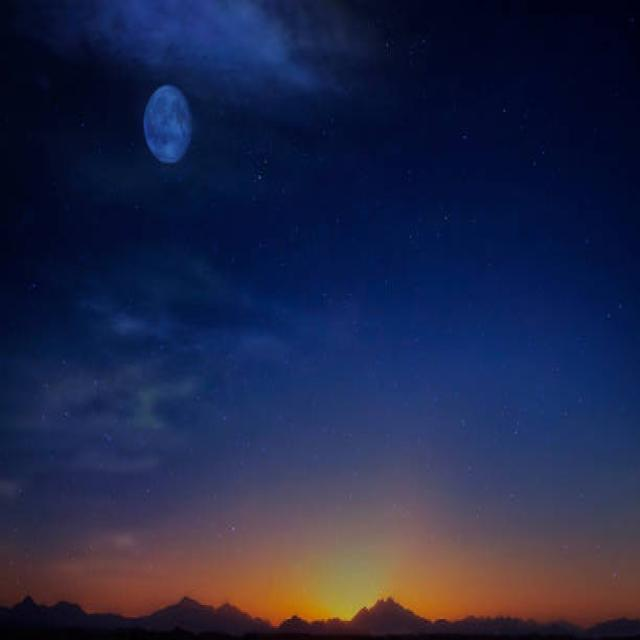moon: (141, 80, 194, 164)
